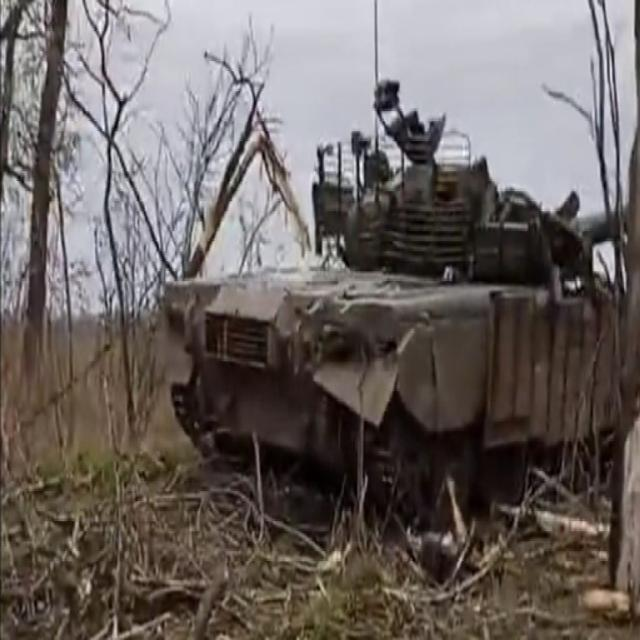TANK: (161, 71, 639, 540)
